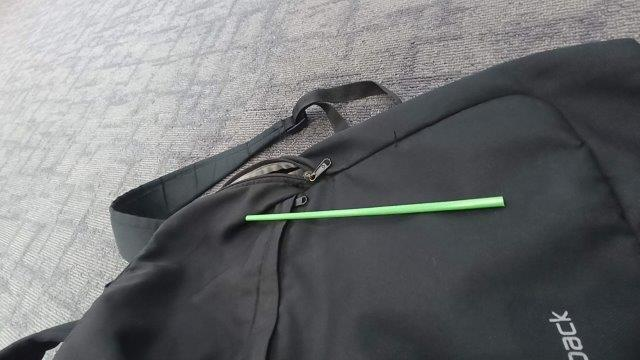sedotan: (245, 197, 504, 222)
